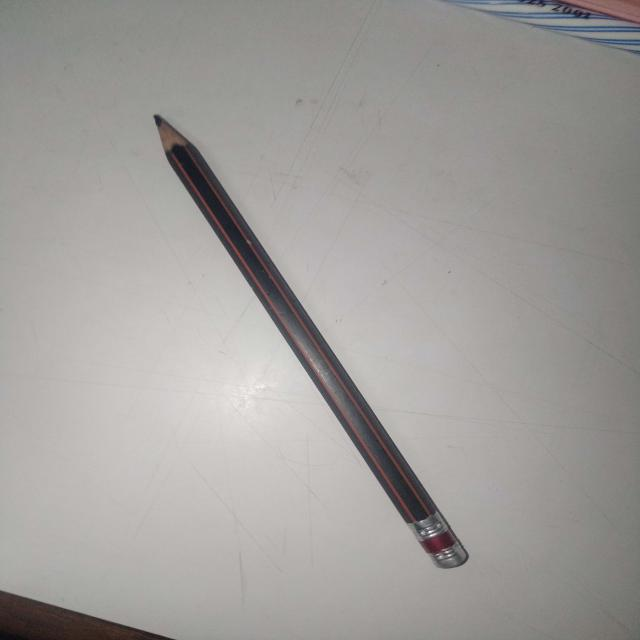pen_pencil: (133, 107, 482, 582)
